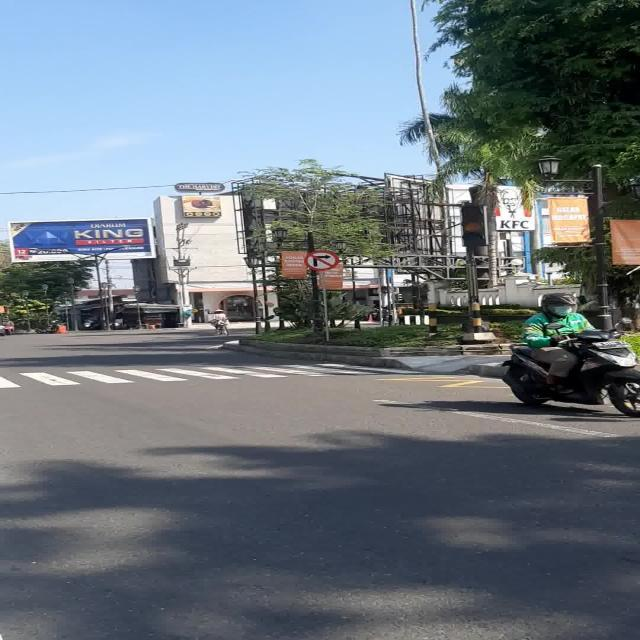Dilarang Belok Kanan: (304, 250, 338, 270)
